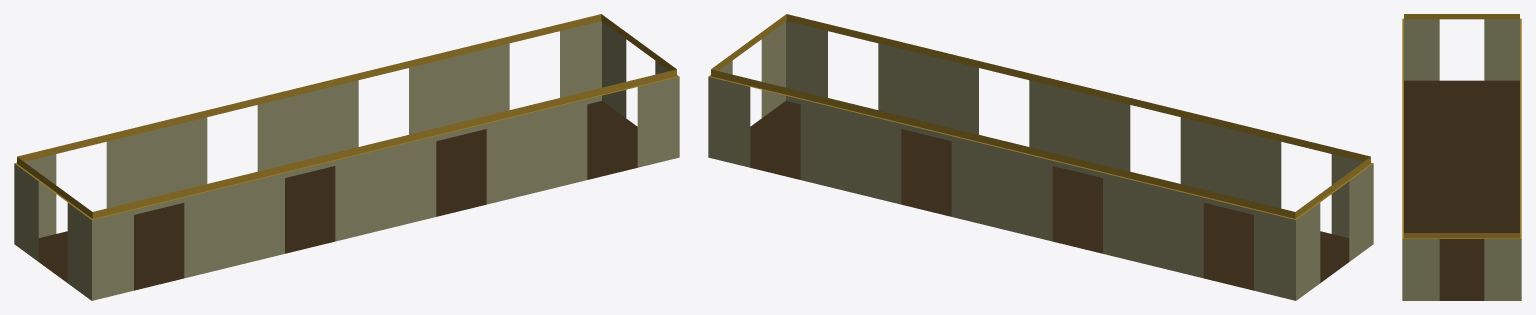
File: 3x12Room.fbx
The picture shows the model from 3 angles, left to right: view 1: azimuth 30°, elevation 25°; view 2: azimuth 150°, elevation 25°; view 3: azimuth 270°, elevation 25°; orthographic projection. The views are drawn at different scales.
Visible parts, largest first — view 1: 3x12Room; view 2: 3x12Room; view 3: 3x12Room.
Part boxes in pixels (<box>): 3x12Room: <box>14,14,679,300</box>; 3x12Room: <box>708,14,1373,300</box>; 3x12Room: <box>1402,14,1521,300</box>.
Size of the model in its own units: 3500 by 500 by 800.
